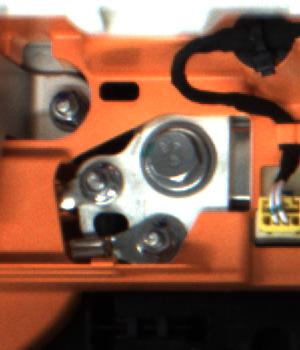nut_b: (134, 118, 216, 197)
